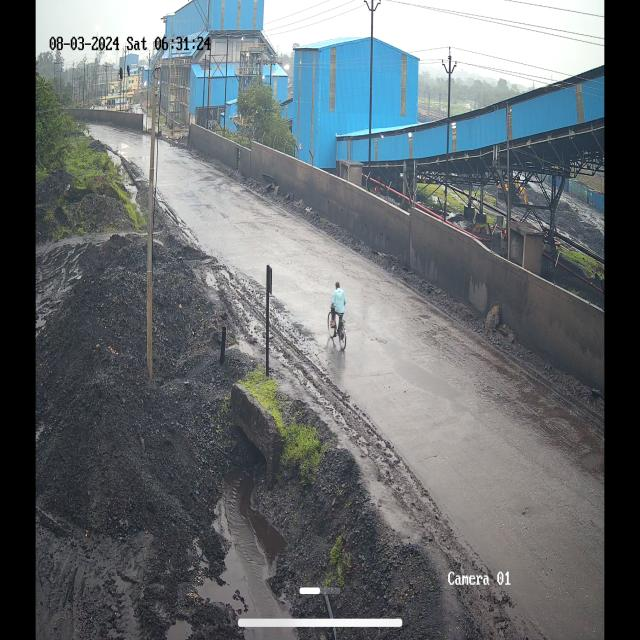person: (332, 280, 345, 324)
